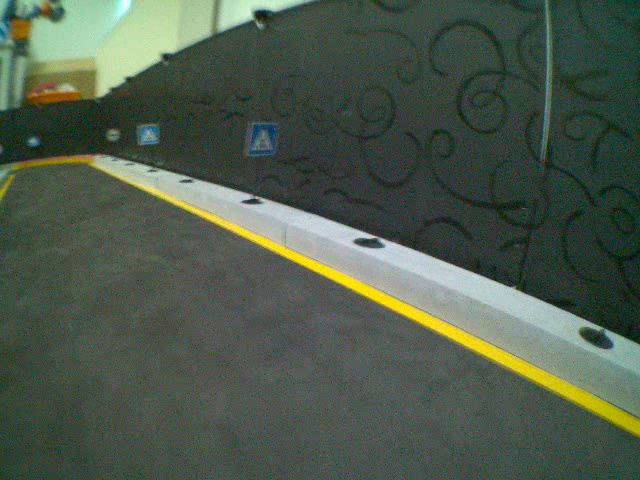crossing: (244, 121, 279, 156), (136, 123, 158, 147)
